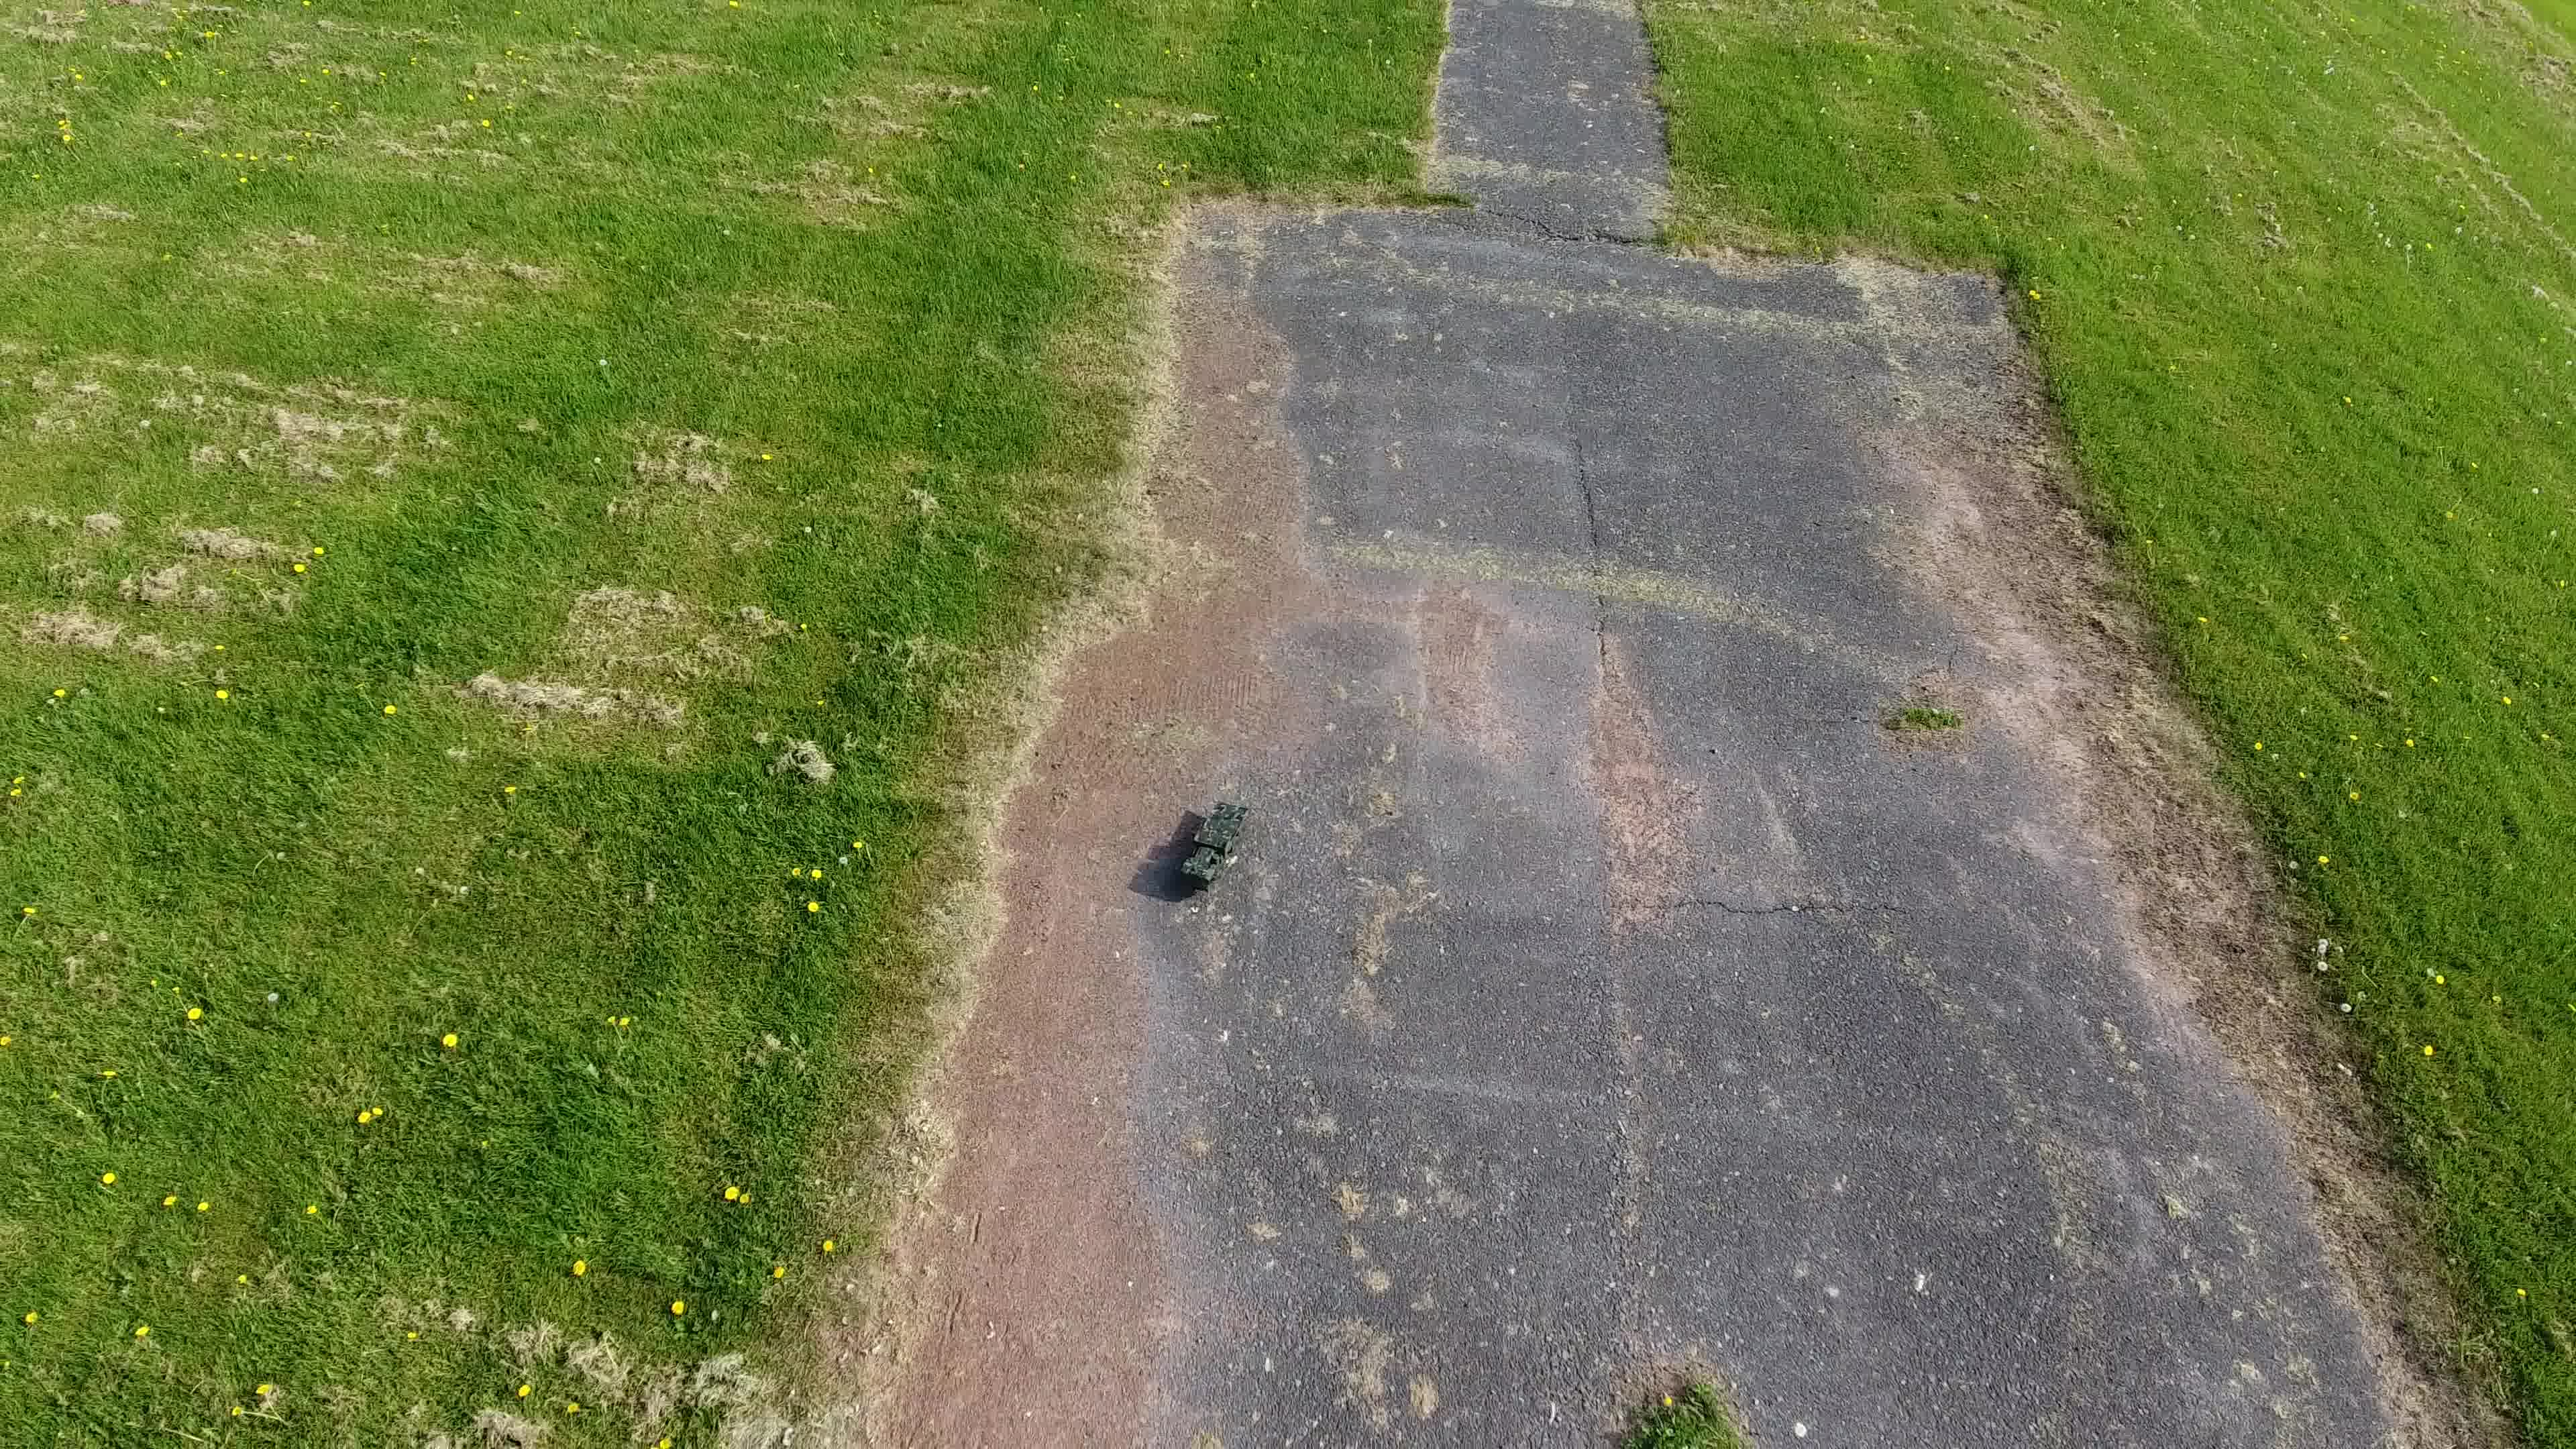transporter9: (1175, 798, 1251, 893)
